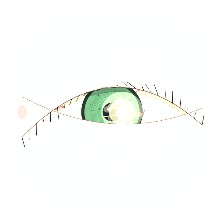corneal_ulcer: (100, 94, 144, 129)
